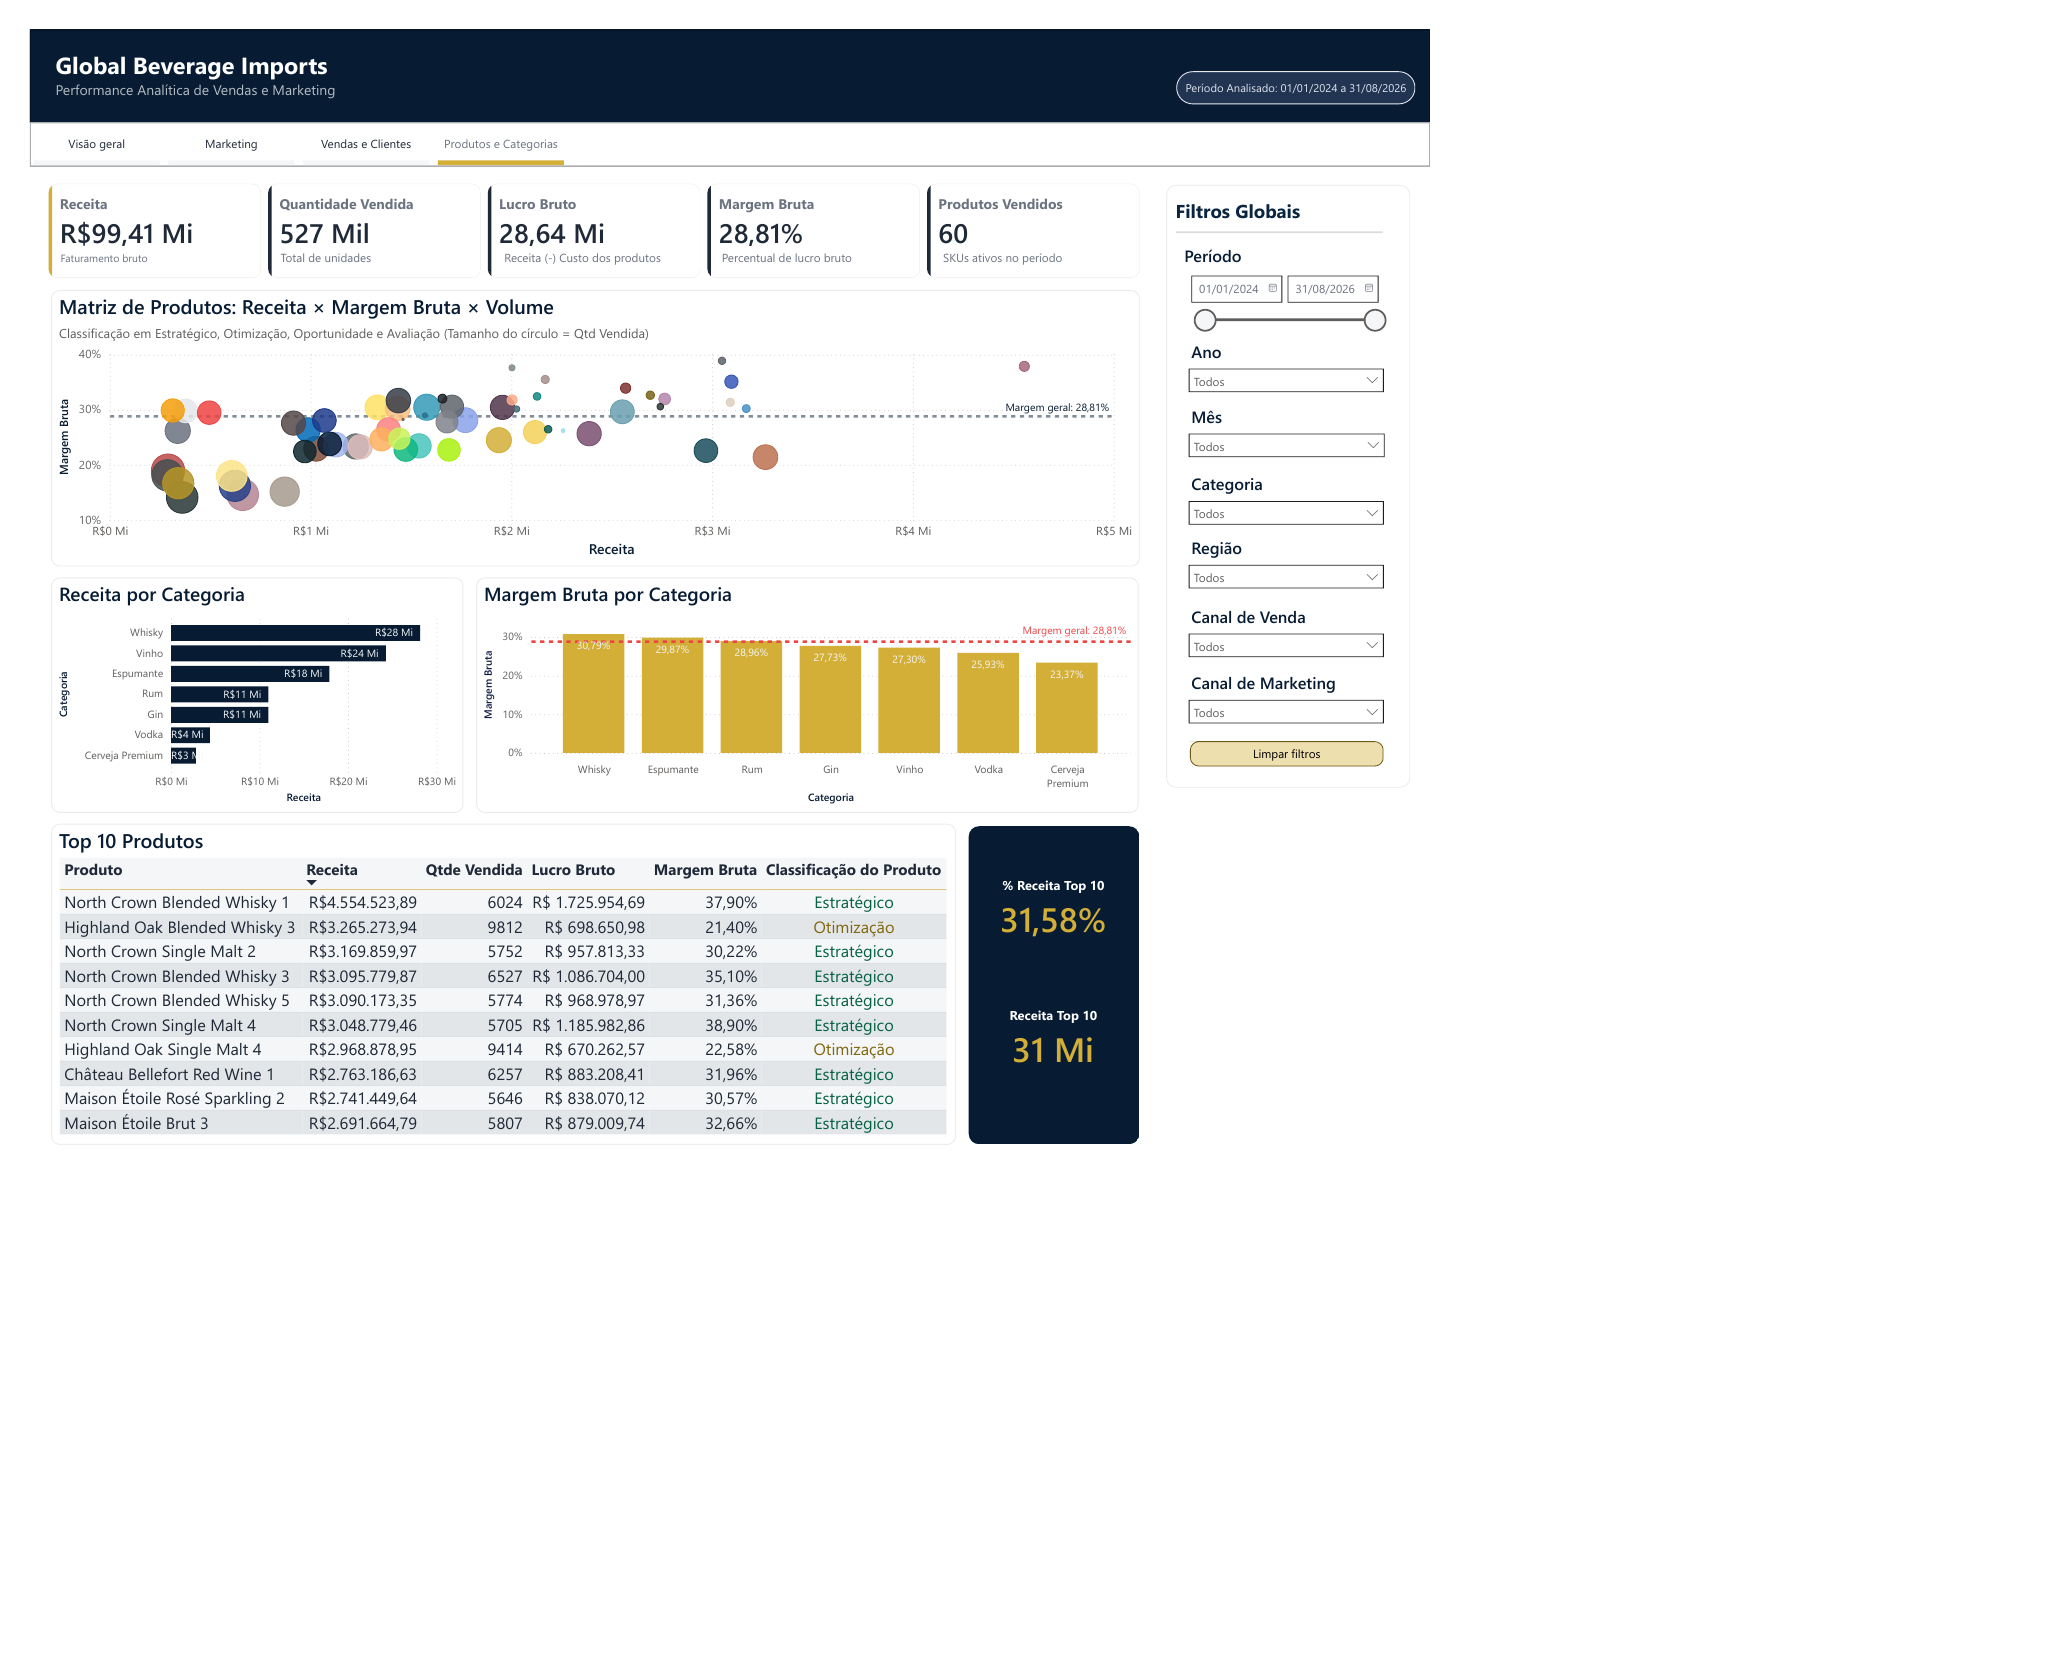

What the dashboard file says about the page in this screenshot:
{"tool":"powerbi","page":{"name":"Produtos e Categorias","canvas":[1600,1280],"ordinal":3},"visuals":[{"type":"group","id":"g1","title":"Grupo 4","box":[0,0,1600,106.2],"z":0,"group":"g2"},{"type":"shape","box":[0,0,1600,106.2],"z":0,"group":"g1"},{"type":"textbox","box":[1315.6,53.4,273.3,32.2],"z":0,"group":"g3"},{"type":"shape","box":[1298.6,176.5,278.8,688.8],"z":0,"group":"g5"},{"type":"shape","box":[1072.9,910,195,363.3],"z":0,"group":"g6"},{"type":"textbox","box":[24.4,17.8,366.7,70],"z":1000,"group":"g1"},{"type":"shape","box":[1310,47.8,273.3,37.8],"z":1000,"group":"g3"},{"type":"shape","box":[0,106.2,1600,50],"z":1000,"group":"g2"},{"type":"cardVisual","fields":{"Data":["_Medidas.Receita","_Medidas.Quantidade Vendida","_Medidas.Lucro Bruto","_Medidas.Margem Bruta","_Medidas.Produtos Vendidos"]},"box":[14.3,168.6,1264.3,122.9],"z":1000},{"type":"slicer","title":"Período","fields":{"Values":["dim_data.Date"]},"box":[1314.8,245.3,243.8,103.8],"z":1000,"group":"g5"},{"type":"group","id":"g2","title":"Grupo 5","box":[0,0,1600,156.2],"z":2000},{"type":"group","id":"g3","title":"Grupo 3","box":[1310,47.8,278.9,37.8],"z":2000,"group":"g1"},{"type":"slicer","fields":{"Values":["dim_produto.Category"]},"box":[1314.8,500.3,242.5,73.8],"z":2000,"group":"g5"},{"type":"group","id":"g4","title":"Grupo 6","box":[4.2,110.3,606.5,45.3],"z":3000},{"type":"slicer","fields":{"Values":["dim_cliente.Region"]},"box":[1314.8,574,242.5,77.5],"z":3000,"group":"g5"},{"type":"pageNavigator","box":[4.2,111.3,606.2,43.8],"z":3001,"group":"g4"},{"type":"pageNavigator","box":[4.2,110.3,606.5,39.4],"z":3501,"group":"g4"},{"type":"group","id":"g5","title":"Grupo 2","box":[1298.6,176.5,278.6,688.6],"z":4000},{"type":"slicer","fields":{"Values":["dim_canal_vendas.Sales_Channel"]},"box":[1314.8,651.5,242.5,76.2],"z":4000,"group":"g5"},{"type":"textbox","box":[1304.8,186.5,210,41.2],"z":5000,"group":"g5"},{"type":"textbox","box":[281.4,247.1,220,28.6],"z":5000},{"type":"shape","box":[1309.8,214,236.2,33.8],"z":6000,"group":"g5"},{"type":"textbox","box":[30,247.1,220,28.6],"z":6000},{"type":"textbox","box":[537.1,247.1,220,28.6],"z":7000},{"type":"slicer","title":"Período","fields":{"Values":["dim_data.Year"]},"box":[1314.8,349,242.5,75],"z":7000,"group":"g5"},{"type":"textbox","box":[785.7,247.1,220,28.6],"z":8000},{"type":"slicer","title":"Período","fields":{"Values":["dim_data.Month"]},"box":[1314.8,424,243.8,75],"z":8000,"group":"g5"},{"type":"textbox","box":[1038.6,247.1,220,28.6],"z":9000},{"type":"slicer","fields":{"Values":["dim_canal_marketing.Marketing_Channel"]},"box":[1314.8,727.7,242.5,83.8],"z":9000,"group":"g5"},{"type":"scatterChart","title":"Matriz de Produtos: Receita × Margem Bruta × Volume","fields":{"Y":["_Medidas.Margem Bruta"],"Size":["_Medidas.Quantidade Vendida"],"X":["_Medidas.Receita"],"Category":["dim_produto.Product_ID"],"Series":["dim_produto.Product"]},"box":[24.3,297.1,1244.3,315.7],"z":10000},{"type":"actionButton","box":[1326.1,811.5,221.2,28.8],"z":10000,"group":"g5"},{"type":"barChart","title":"Receita por Categoria","fields":{"Category":["dim_produto.Category"],"Y":["_Medidas.Receita"]},"box":[24.3,625.7,471.4,268.6],"z":11000},{"type":"clusteredColumnChart","title":"Margem Bruta por Categoria","fields":{"Category":["dim_produto.Category"],"Y":["_Medidas.Margem Bruta"]},"box":[510,625.7,757.1,268.6],"z":12000},{"type":"tableEx","title":"Top 10 Produtos","fields":{"Values":["dim_produto.Product","_Medidas.Receita","_Medidas.Quantidade Vendida","_Medidas.Lucro Bruto","_Medidas.Margem Bruta","_Medidas.Classificação Produto"]},"box":[24.3,907.1,1034.3,367.1],"z":13000},{"type":"cardVisual","title":"Top 10 Produtos por Receita","fields":{"Data":["_Medidas.% Receita Top 10","_Medidas.Receita Top 10 Produtos"]},"box":[1076,948.9,188.8,303.3],"z":14000,"group":"g6"},{"type":"group","id":"g6","title":"Grupo 1","box":[1072.9,910,194.3,364.3],"z":14001}]}

Visuals, with their boxes in screenshot pixels (x1, y1, x2, y2), scaled from the page's 1600x1280 canvas onto the 2060x1660 screenshot:
"Grupo 4" group: Rect(0, 0, 2059, 138)
shape: Rect(0, 0, 2059, 138)
textbox: Rect(1694, 69, 2046, 111)
shape: Rect(1672, 229, 2031, 1122)
shape: Rect(1381, 1180, 1632, 1651)
textbox: Rect(31, 23, 504, 114)
shape: Rect(1687, 62, 2038, 111)
shape: Rect(0, 138, 2059, 203)
cardVisual - _Medidas.Receita x _Medidas.Quantidade Vendida: Rect(18, 219, 1646, 378)
"Período" slicer: Rect(1693, 318, 2007, 453)
"Grupo 5" group: Rect(0, 0, 2059, 203)
"Grupo 3" group: Rect(1687, 62, 2046, 111)
slicer - dim_produto.Category: Rect(1693, 649, 2005, 745)
"Grupo 6" group: Rect(5, 143, 786, 202)
slicer - dim_cliente.Region: Rect(1693, 744, 2005, 845)
pageNavigator: Rect(5, 144, 786, 201)
pageNavigator: Rect(5, 143, 786, 194)
"Grupo 2" group: Rect(1672, 229, 2031, 1122)
slicer - dim_canal_vendas.Sales_Channel: Rect(1693, 845, 2005, 944)
textbox: Rect(1680, 242, 1950, 295)
textbox: Rect(362, 320, 646, 358)
shape: Rect(1686, 278, 1990, 321)
textbox: Rect(39, 320, 322, 358)
textbox: Rect(692, 320, 975, 358)
"Período" slicer: Rect(1693, 453, 2005, 550)
textbox: Rect(1012, 320, 1295, 358)
"Período" slicer: Rect(1693, 550, 2007, 647)
textbox: Rect(1337, 320, 1620, 358)
slicer - dim_canal_marketing.Marketing_Channel: Rect(1693, 944, 2005, 1052)
"Matriz de Produtos: Receita × Margem Bruta × Volume" scatterChart: Rect(31, 385, 1633, 795)
actionButton: Rect(1707, 1052, 1992, 1090)
"Receita por Categoria" barChart: Rect(31, 811, 638, 1160)
"Margem Bruta por Categoria" clusteredColumnChart: Rect(657, 811, 1631, 1160)
"Top 10 Produtos" tableEx: Rect(31, 1176, 1363, 1652)
"Top 10 Produtos por Receita" cardVisual: Rect(1385, 1231, 1628, 1624)
"Grupo 1" group: Rect(1381, 1180, 1632, 1653)
